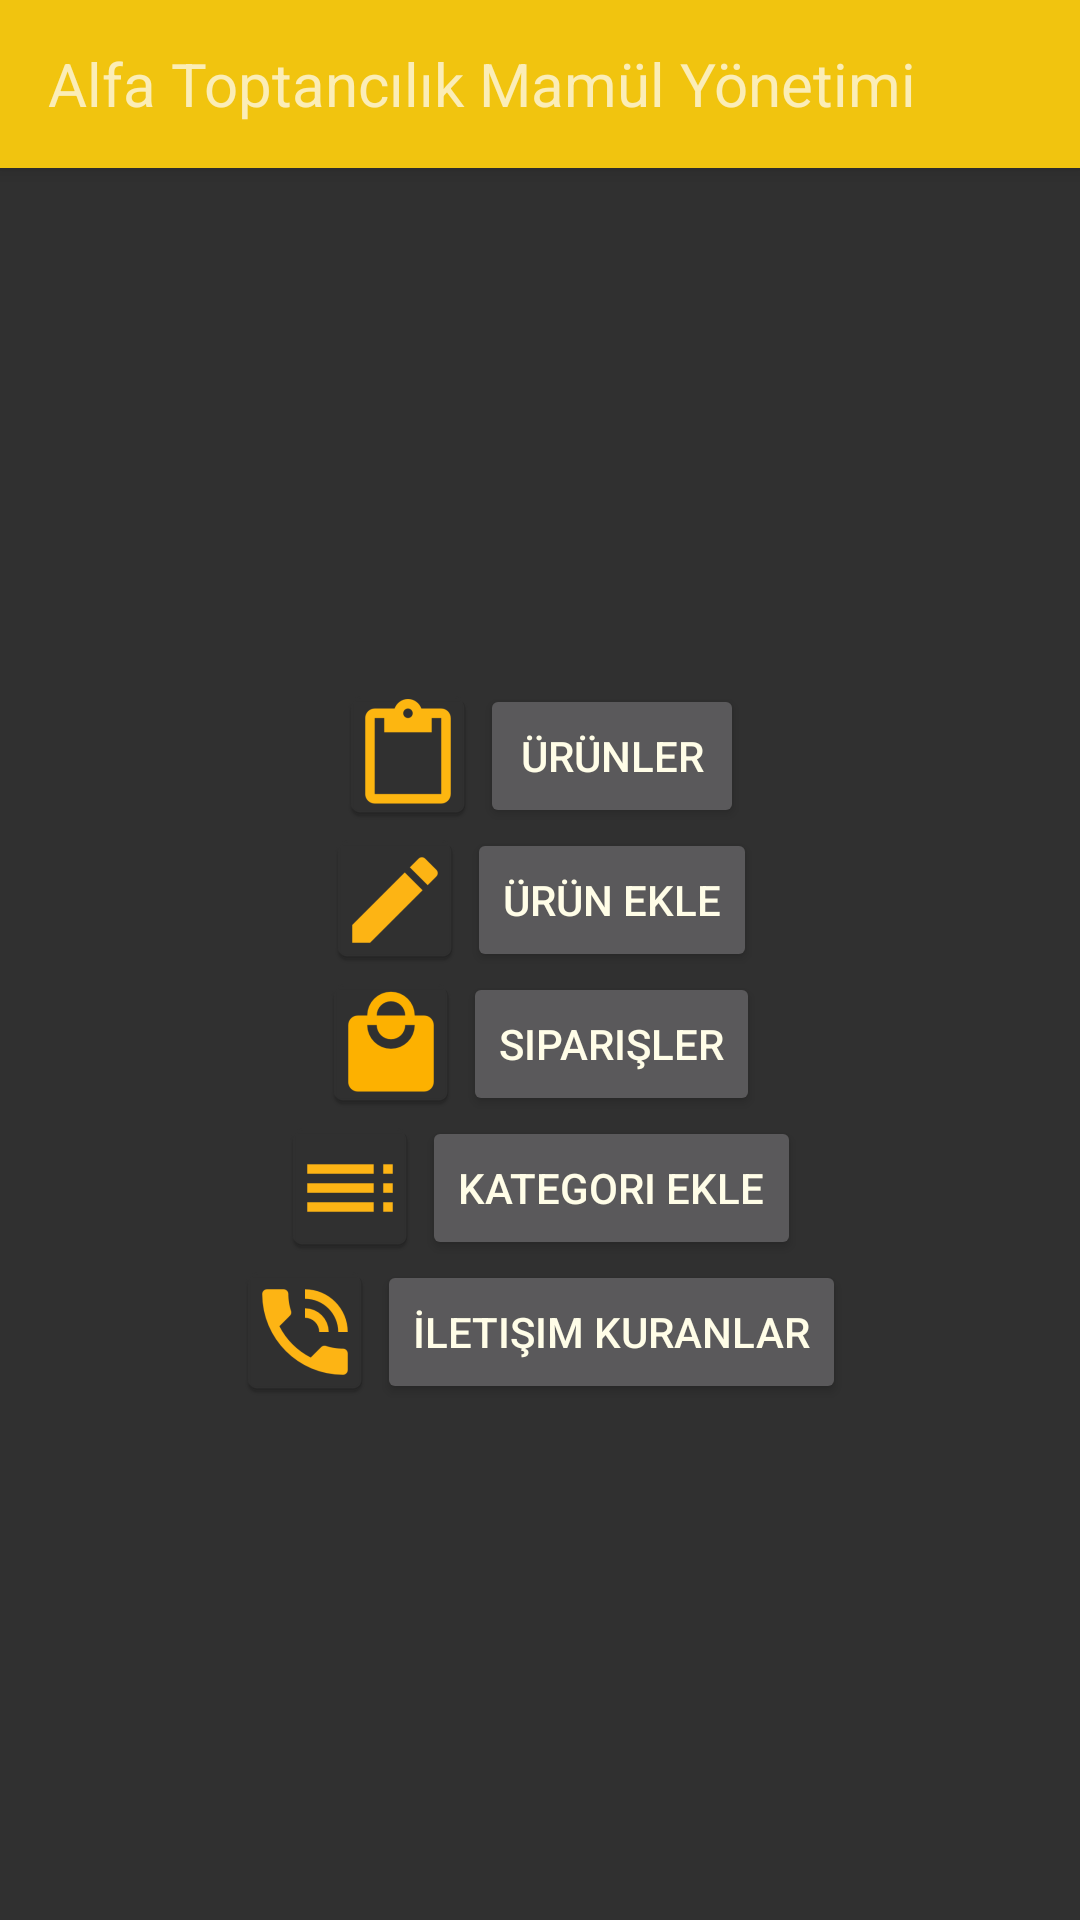

Screen size 1080x1920. Icon name, then its box in pixels as [x1, y1, x2, y2]:
iletisime gecen: [262, 1289, 348, 1375]
listele: [365, 699, 451, 804]
siparisler: [348, 991, 434, 1092]
